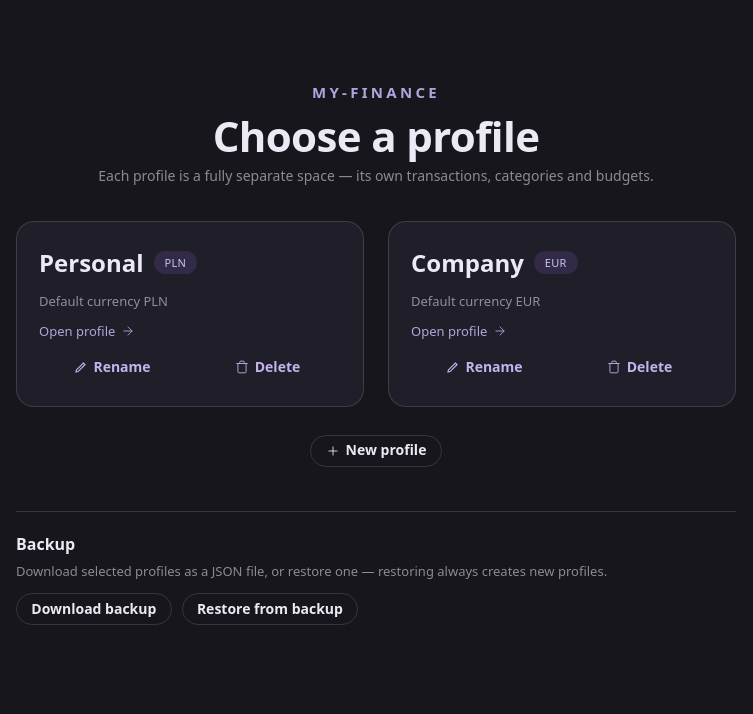
Test: cancelling the new-profile form creates nothing
The width and height of the screenshot is (753, 714).
Click the button "New profile".
click(376, 451)  # box [310, 434, 442, 467]
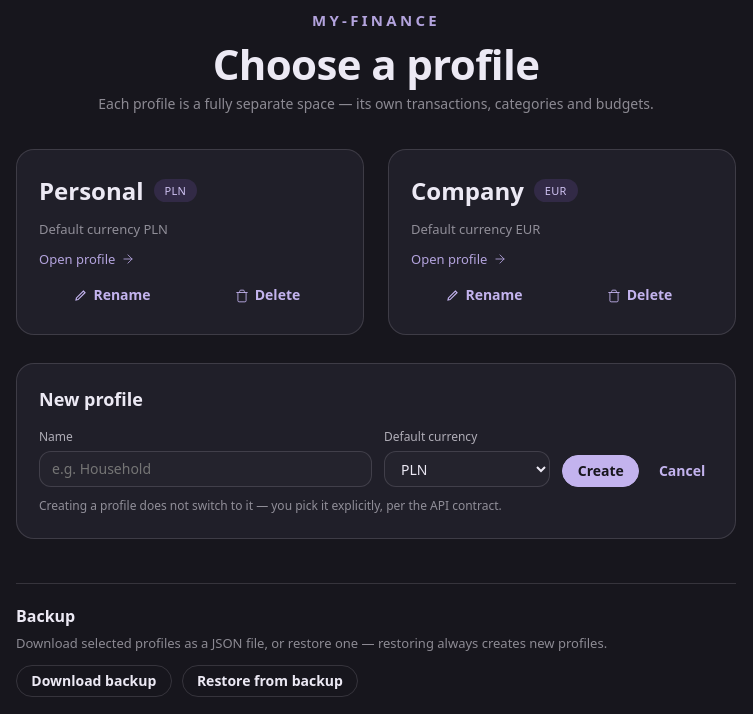
Type "Household" into the field named "Profile name".
click(206, 469); type("Household")  # box [39, 451, 372, 487]
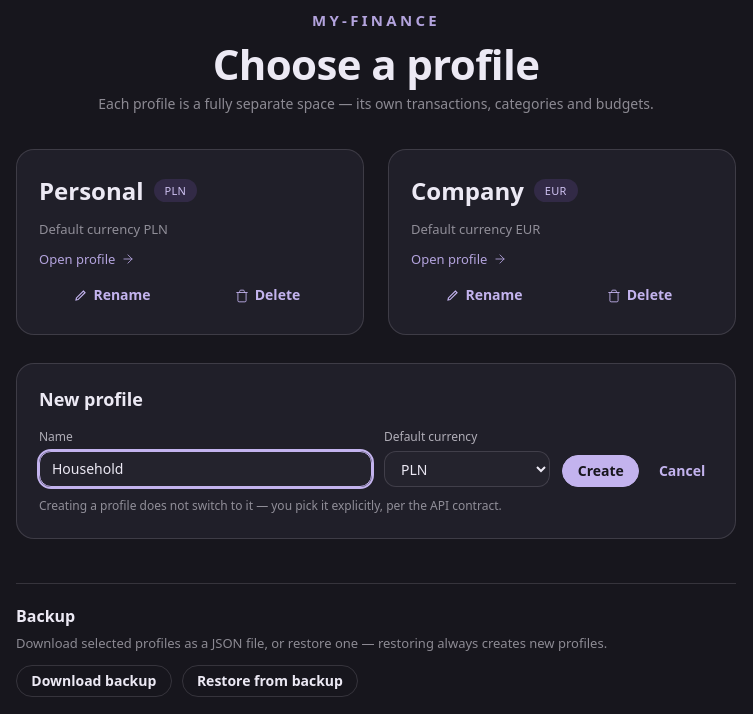
Click the button "Cancel".
click(682, 471)  # box [651, 455, 713, 487]
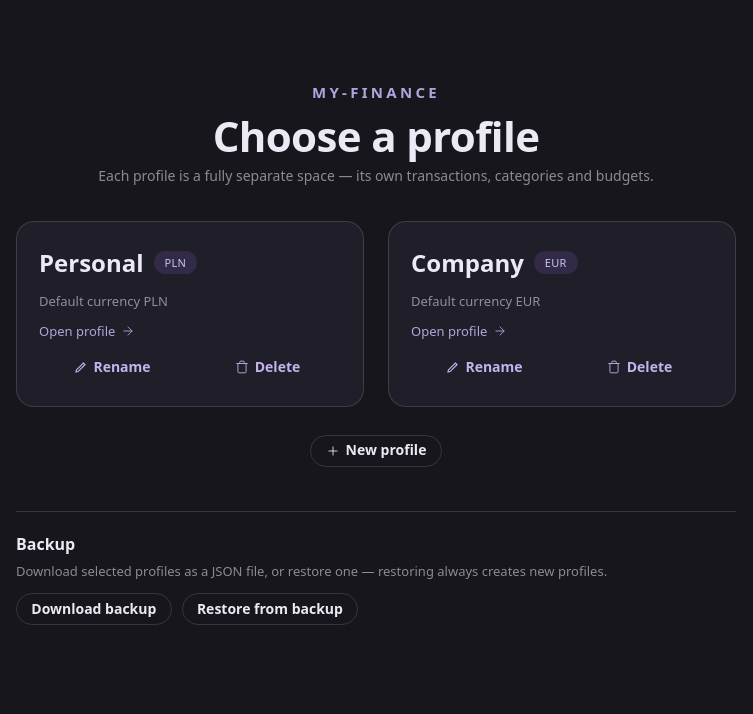
Now the field labelled "profile Name" is gone
